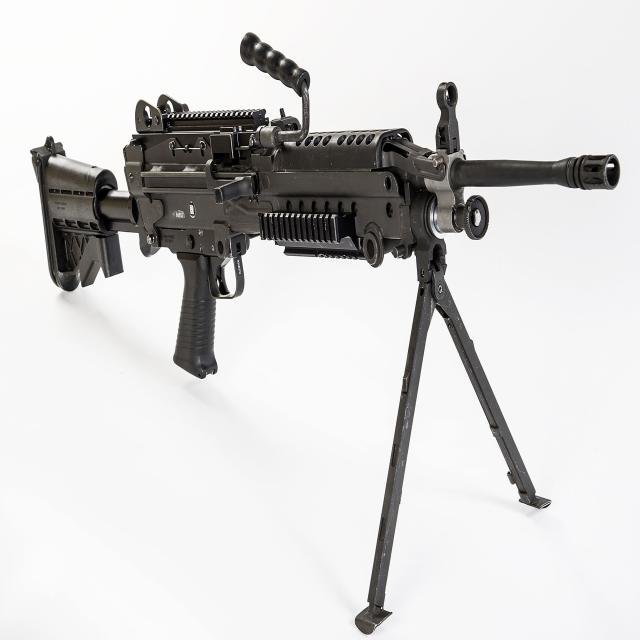Weapon: (31, 33, 620, 633)
